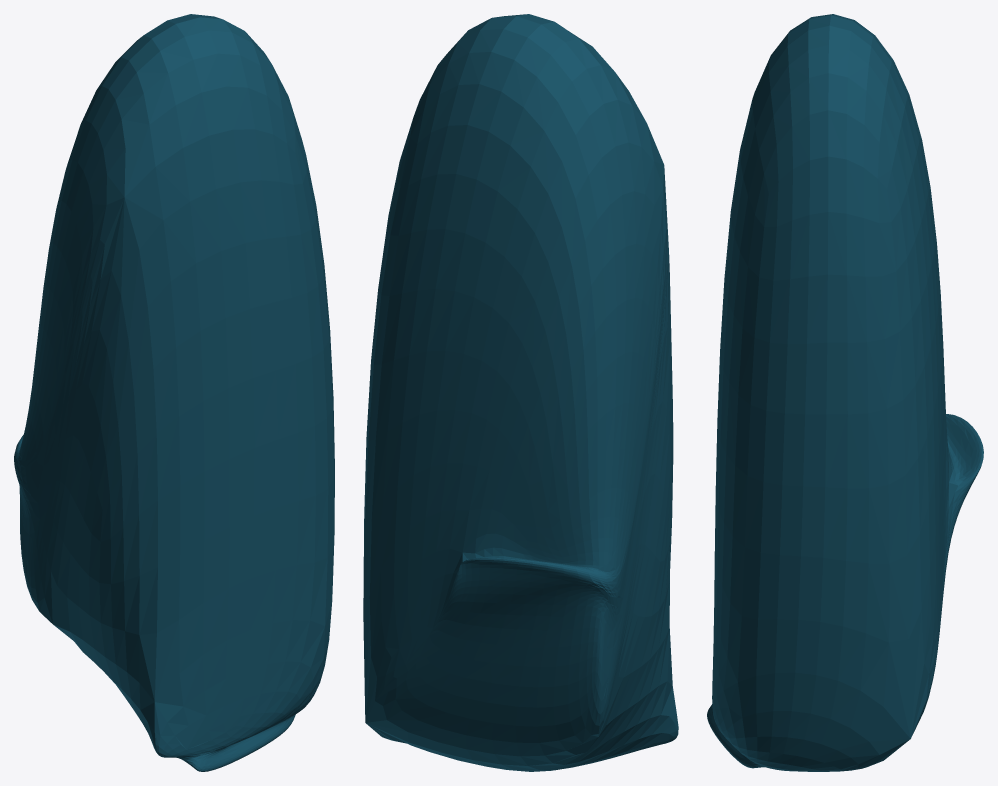
3 views of the same model, side by side, from view 1: azimuth 30°, elevation 25°; view 2: azimuth 150°, elevation 25°; view 3: azimuth 270°, elevation 25° (orthographic). The views are drawn at different scales.
Visible parts, largest first — view 1: 875_Cube.3535; view 2: 875_Cube.3535; view 3: 875_Cube.3535.
Part boxes in pixels (x1,y1,x2,y2): 875_Cube.3535: (14,14,334,771); 875_Cube.3535: (363,14,678,771); 875_Cube.3535: (707,14,983,771).
Bounding box in the file's own units: 4.41 × 11.56 × 4.
